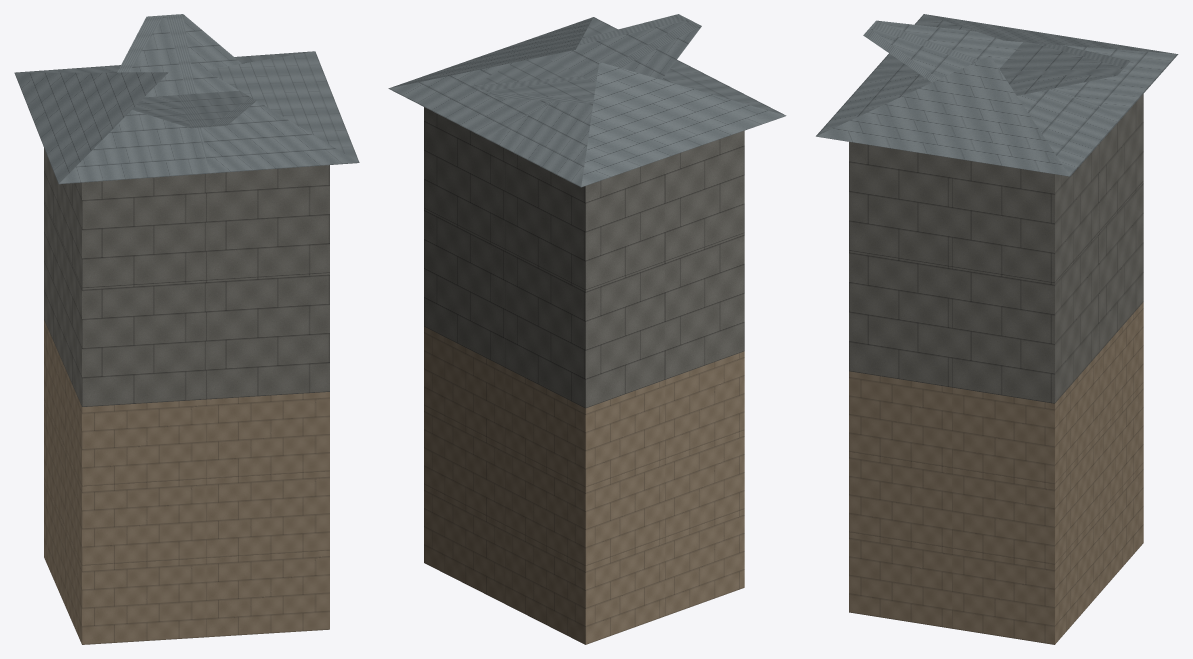
The model's file is bld_c11_28_394.gltf.
3 renders of one model, left to right at view 1: azimuth 30°, elevation 25°; view 2: azimuth 150°, elevation 25°; view 3: azimuth 270°, elevation 25°, orthographic.
Parts seen in each view (by area): view 1: bld_c11_28_394; view 2: bld_c11_28_394; view 3: bld_c11_28_394.
Part boxes in pixels (<box>): bld_c11_28_394: <box>14,14,359,644</box>; bld_c11_28_394: <box>388,14,786,644</box>; bld_c11_28_394: <box>816,14,1178,644</box>.
Size of the model in its own units: 7.38 by 11.2 by 6.96.
Materials: 3 (3 with a texture image).
